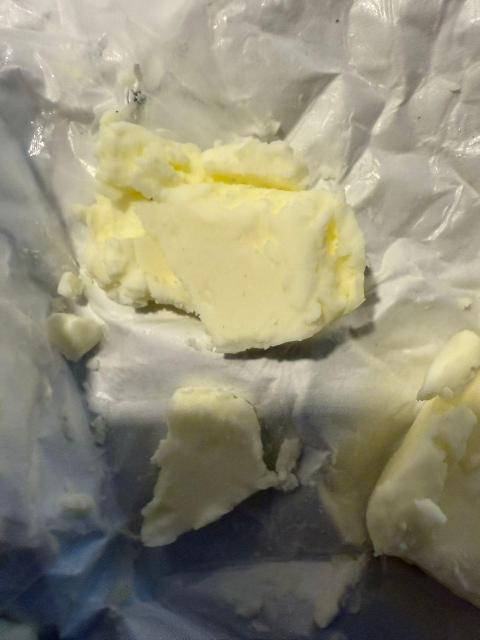Organik: (85, 119, 376, 324), (364, 321, 477, 627), (115, 389, 321, 551), (39, 312, 101, 359), (48, 271, 87, 304)
